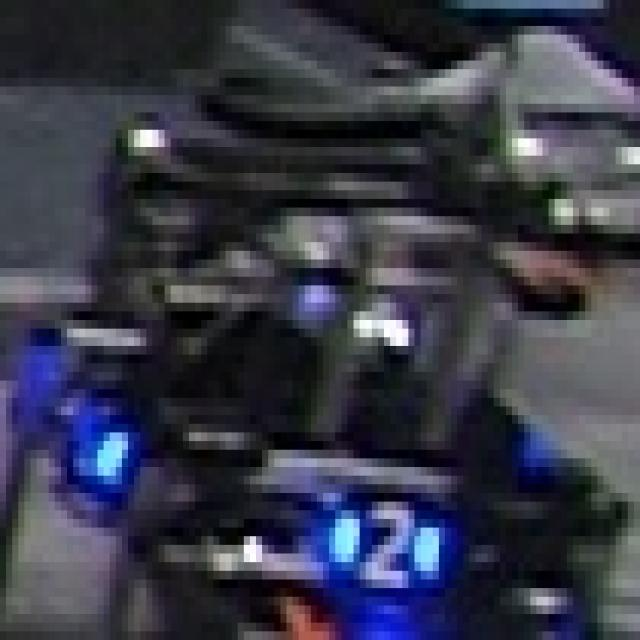B2: (317, 467, 445, 605)
